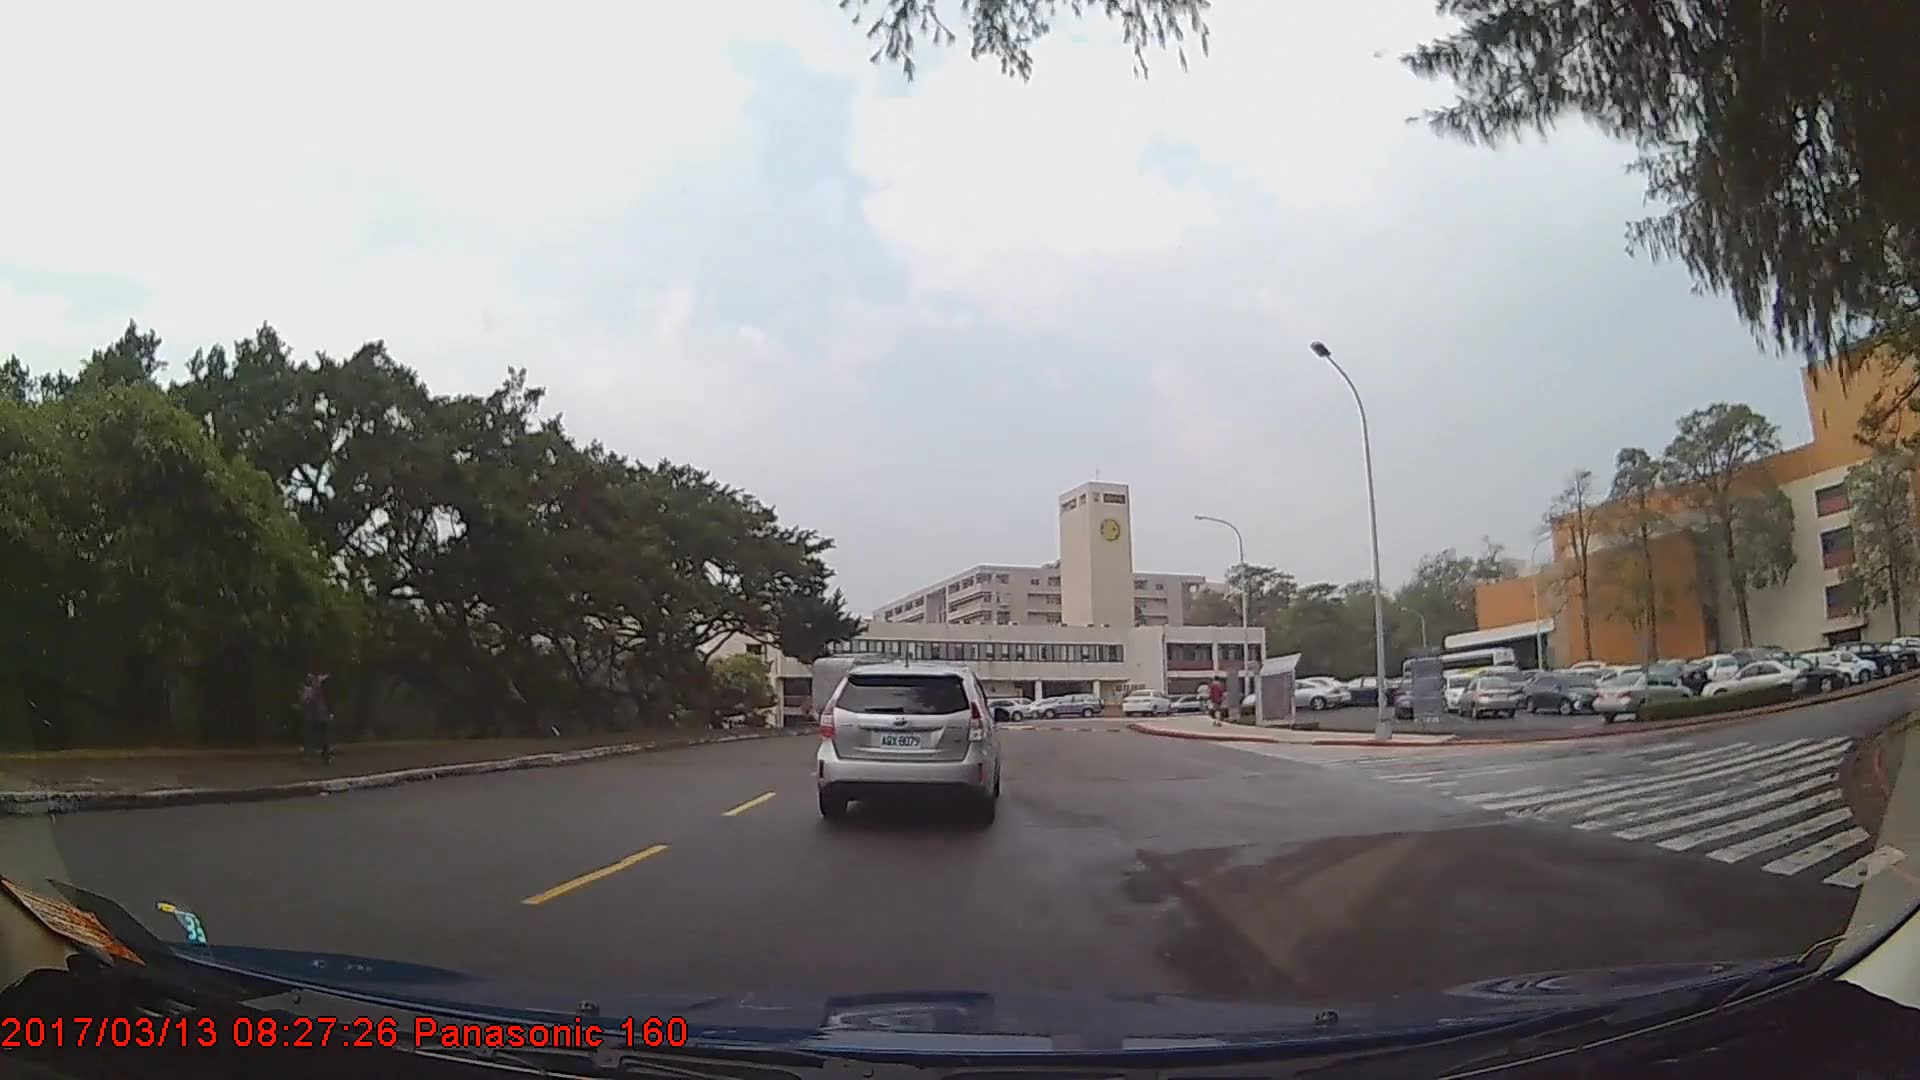pedestrian: (285, 653, 335, 766), (1207, 677, 1228, 730)
vehicle: (817, 660, 997, 822), (1595, 668, 1689, 723), (1700, 658, 1804, 706), (1748, 654, 1844, 697), (1242, 677, 1339, 714), (1526, 669, 1604, 714), (1456, 674, 1519, 720), (1038, 692, 1104, 719), (1120, 687, 1170, 718), (974, 697, 1032, 722)
